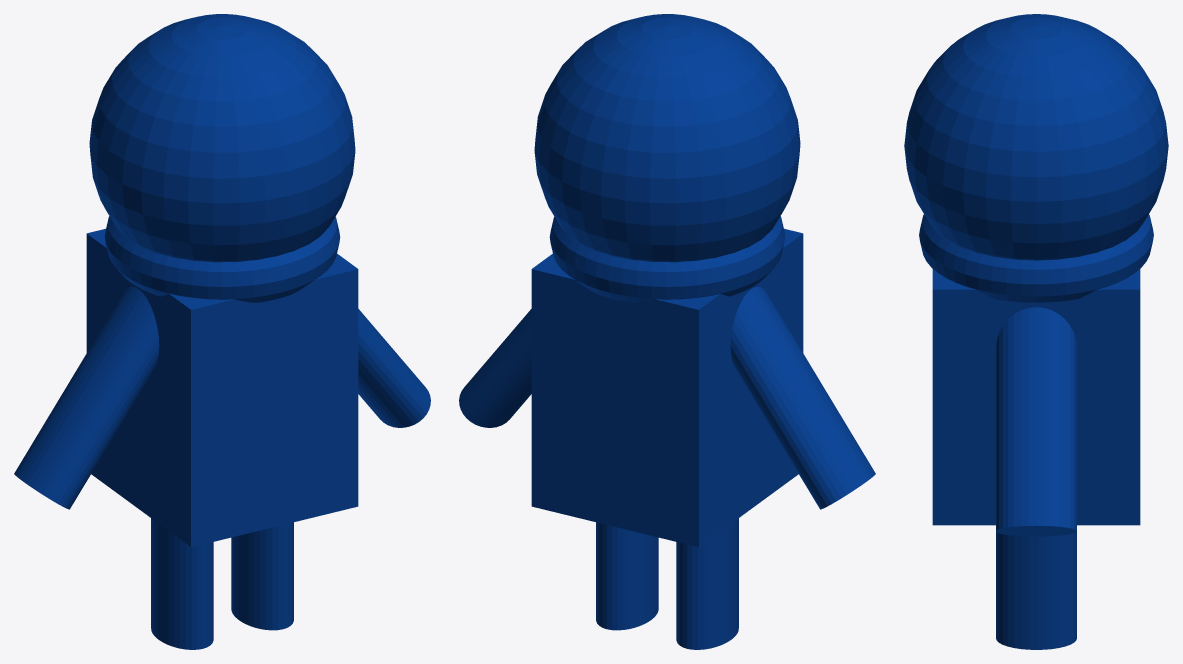
File: enemyblue.obj
3 renders of one model, left to right at view 1: azimuth 30°, elevation 25°; view 2: azimuth 150°, elevation 25°; view 3: azimuth 270°, elevation 25°, orthographic.
Visible parts, largest first — view 1: 立方体, 球, 円柱, Torus, 円柱3_円柱.002, 円柱4_円柱.004, 円柱2_円柱.001; view 2: 立方体, 球, 円柱, Torus, 円柱3_円柱.002, 円柱4_円柱.004, 円柱2_円柱.001; view 3: 球, 立方体, 円柱2_円柱.001, Torus, 円柱4_円柱.004.
Part boxes in pixels (left/top/right/bottom): 立方体: left=86, top=228, right=358, bottom=547; 球: left=89, top=14, right=355, bottom=262; 円柱: left=14, top=286, right=159, bottom=509; Torus: left=104, top=216, right=340, bottom=302; 円柱3_円柱.002: left=151, top=518, right=213, bottom=649; 円柱4_円柱.004: left=231, top=522, right=293, bottom=630; 円柱2_円柱.001: left=358, top=309, right=430, bottom=427; 立方体: left=531, top=228, right=803, bottom=547; 球: left=534, top=14, right=800, bottom=262; 円柱: left=730, top=286, right=875, bottom=509; Torus: left=549, top=216, right=785, bottom=302; 円柱3_円柱.002: left=676, top=518, right=738, bottom=649; 円柱4_円柱.004: left=596, top=522, right=658, bottom=630; 円柱2_円柱.001: left=459, top=309, right=531, bottom=427; 球: left=904, top=14, right=1168, bottom=260; 立方体: left=932, top=269, right=1140, bottom=525; 円柱2_円柱.001: left=996, top=307, right=1076, bottom=536; Torus: left=919, top=214, right=1153, bottom=302; 円柱4_円柱.004: left=996, top=531, right=1076, bottom=649.
Size of the model in its own units: 2.42 by 3.46 by 1.4.
1 material, 1 textured.
